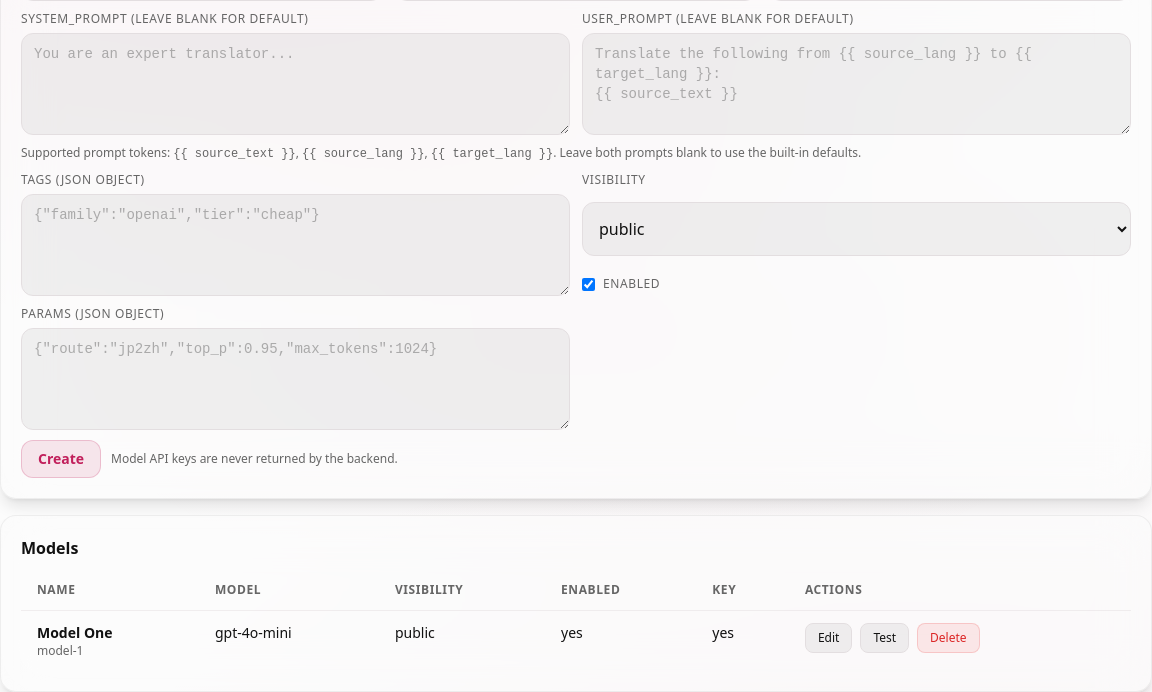
Test case: AdminModelsRoute › deletes a model when confirmed
(page scrolled)
Check: the text "Model One" is shown, box [37,623,112,642]
Click the button "Delete" at (948, 638), box [917,623,980,653]
(page scrolled)
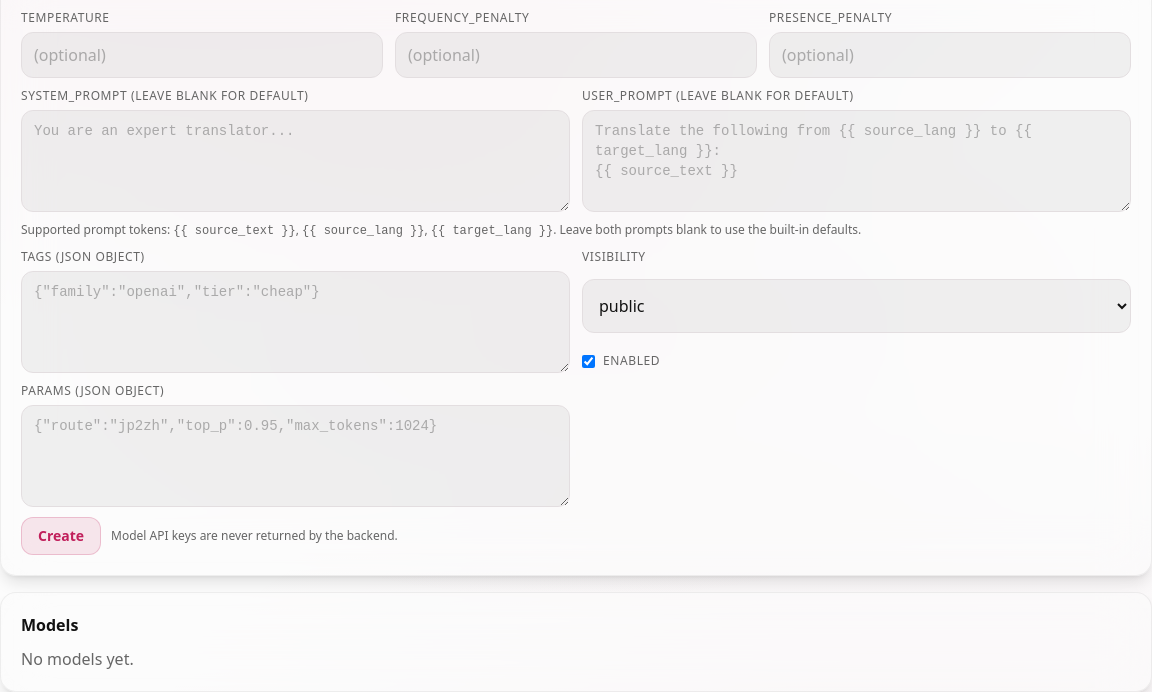
Check: the text "Model One" is gone
